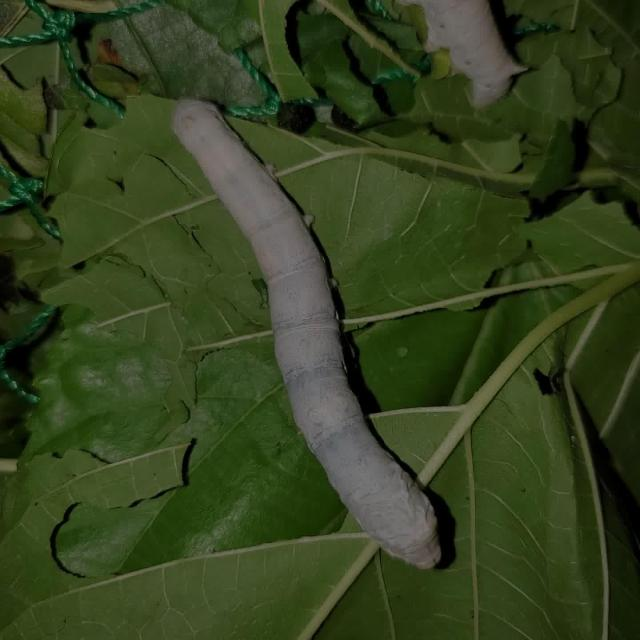Healthy: (167, 91, 450, 581)
